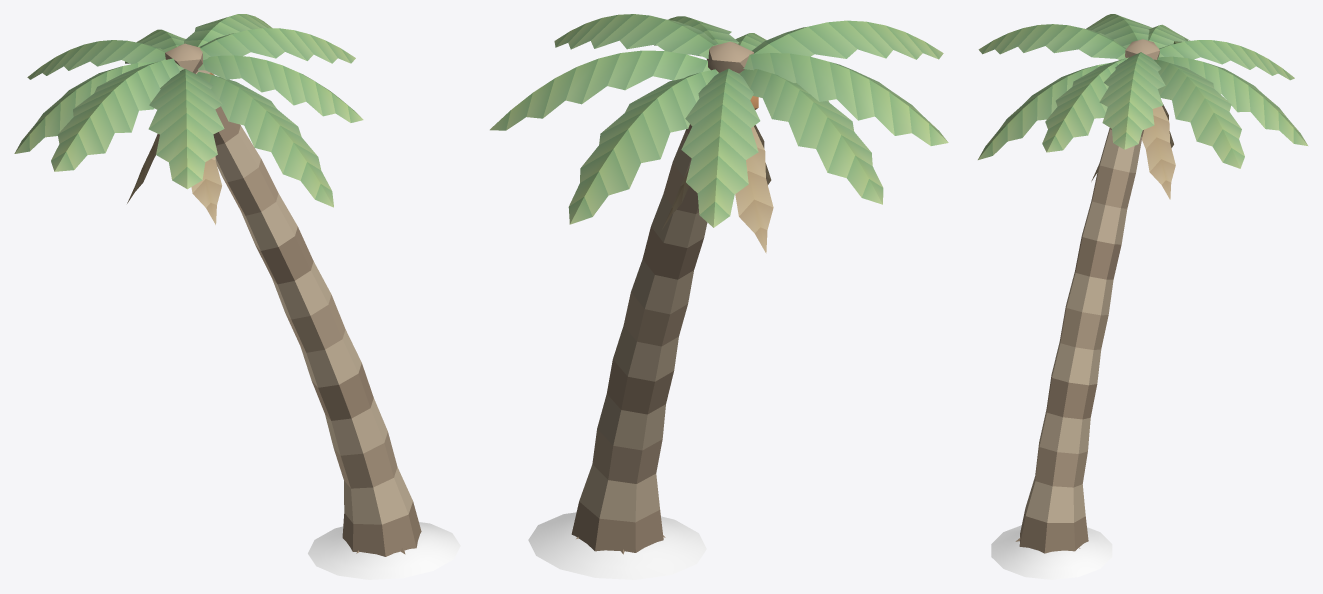
Rendered from palmera_b.glb.
3 views of the same model, side by side, from view 1: azimuth 30°, elevation 25°; view 2: azimuth 150°, elevation 25°; view 3: azimuth 270°, elevation 25° (orthographic). The views are drawn at different scales.
Visible parts, largest first — view 1: palmera_b_hojas, palmera_b, palmera_b_arena; view 2: palmera_b_hojas, palmera_b, palmera_b_arena; view 3: palmera_b_hojas, palmera_b, palmera_b_arena.
Boxes of the visible parts, x1,y1,x2,y2 form: palmera_b_hojas: (14, 14, 363, 224); palmera_b: (165, 43, 421, 556); palmera_b_arena: (308, 522, 460, 579); palmera_b_hojas: (490, 14, 948, 253); palmera_b: (571, 41, 758, 554); palmera_b_arena: (528, 512, 706, 579); palmera_b_hojas: (978, 14, 1307, 199); palmera_b: (1015, 39, 1159, 553); palmera_b_arena: (991, 525, 1112, 579).
Bounding box in the file's own units: 4.95 × 6.52 × 4.27.
